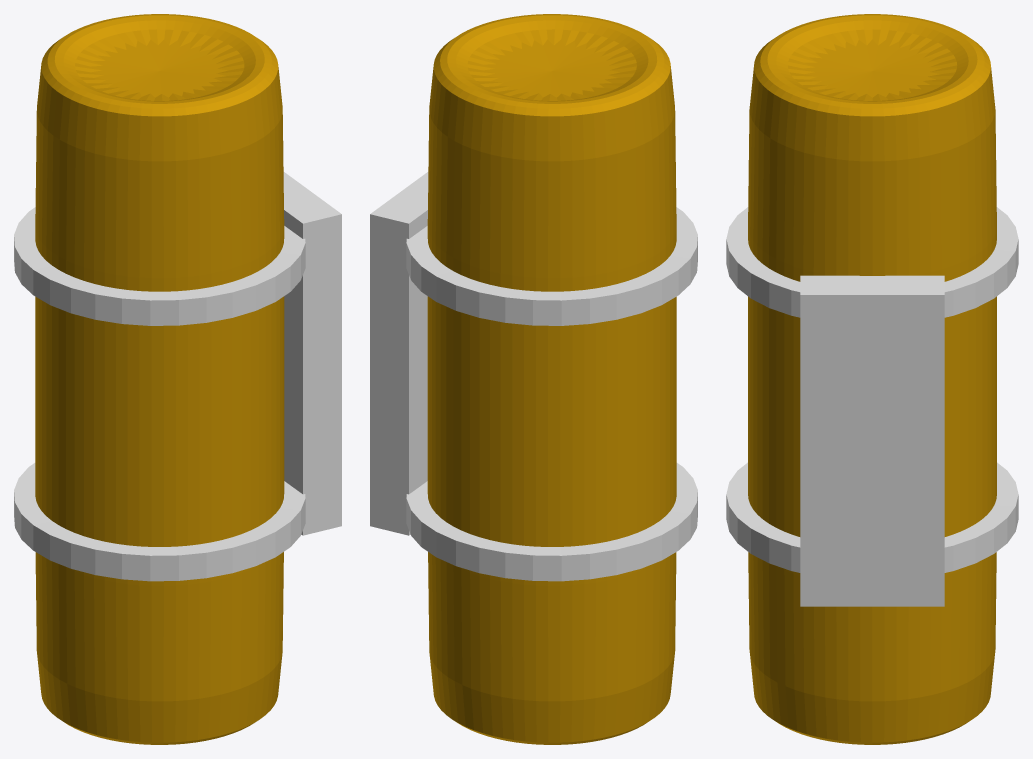
Rendered from 02Tank.fbx.
3 views of the same model, side by side, from view 1: azimuth 30°, elevation 25°; view 2: azimuth 150°, elevation 25°; view 3: azimuth 270°, elevation 25° (orthographic).
Parts seen in each view (by area): view 1: Tank, Control thing, Metal thing, Metal thing.001; view 2: Tank, Control thing, Metal thing, Metal thing.001; view 3: Tank, Control thing, Metal thing.001, Metal thing.
Part boxes in pixels (x1,y1,x2,y2): Tank: [35, 14, 284, 744]; Control thing: [283, 172, 341, 535]; Metal thing: [14, 207, 305, 325]; Metal thing.001: [14, 463, 305, 581]; Tank: [427, 14, 676, 744]; Control thing: [370, 172, 428, 535]; Metal thing: [406, 207, 697, 325]; Metal thing.001: [406, 463, 697, 581]; Tank: [748, 14, 996, 744]; Control thing: [800, 275, 944, 606]; Metal thing.001: [726, 462, 1018, 572]; Metal thing: [726, 207, 1018, 317].
Bounding box in the file's own units: 252 × 564 × 234.
